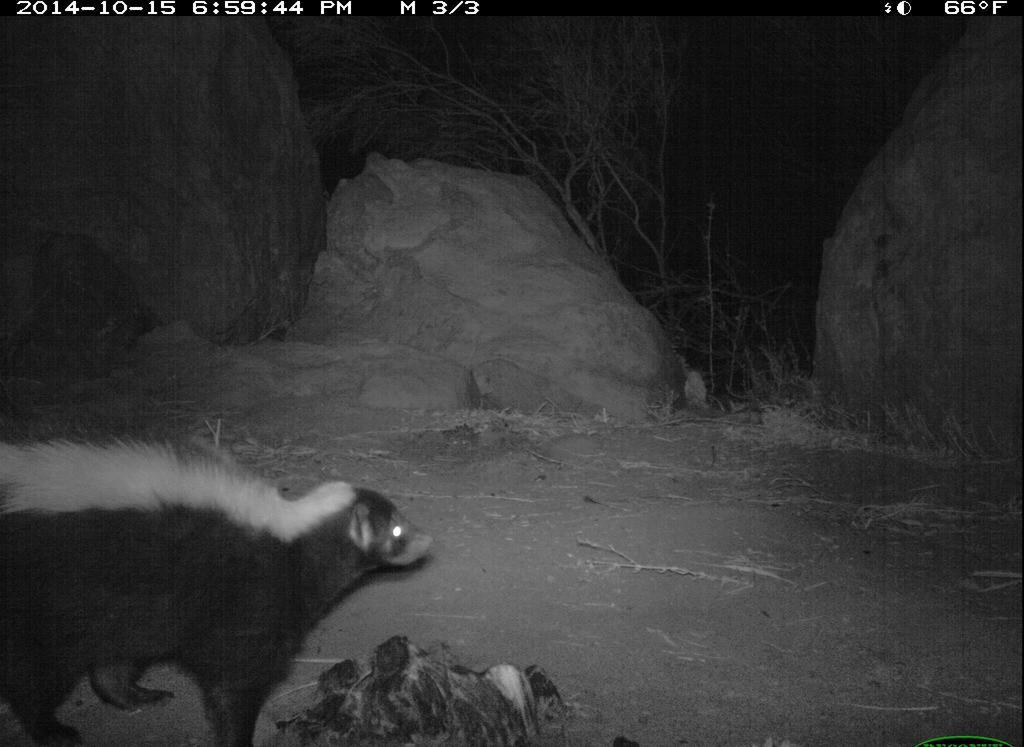skunk: (6, 415, 438, 744)
